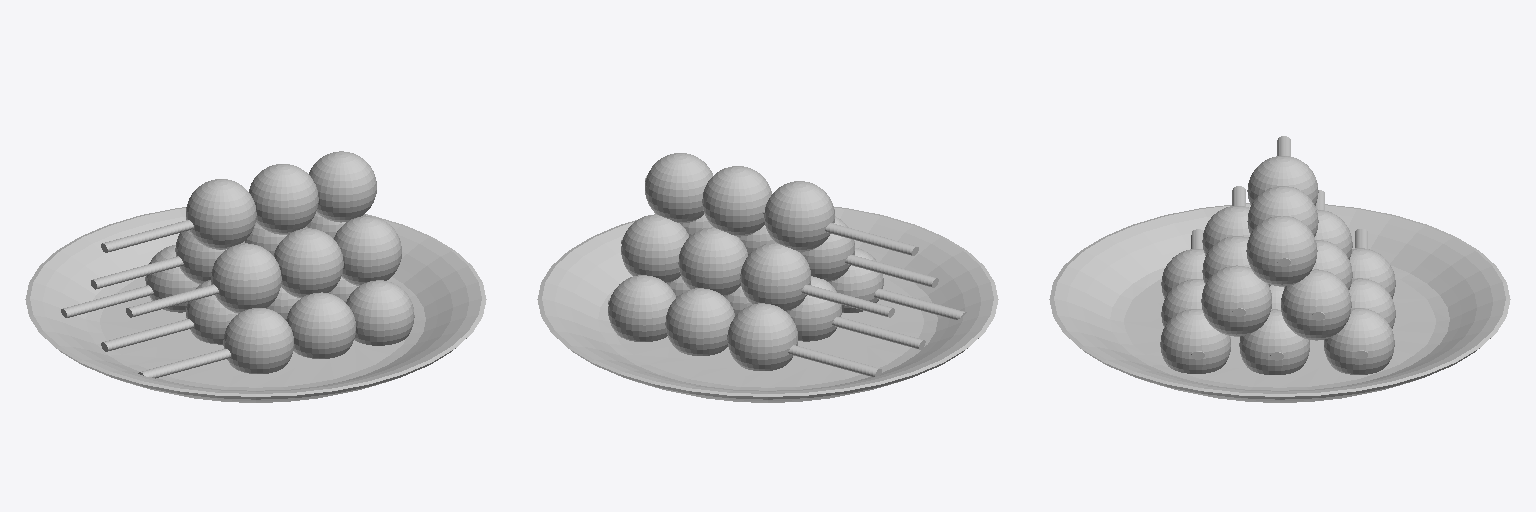
The model's file is KUE CENIL.obj.
3 renders of one model, left to right at view 1: azimuth 30°, elevation 25°; view 2: azimuth 150°, elevation 25°; view 3: azimuth 270°, elevation 25°, orthographic.
Visible parts, largest first — view 1: Cylinder, Sphere.017, Sphere.011, Sphere.016, Sphere.008, Sphere.010, Sphere.007, Sphere.015, Sphere.009, Sphere.006, Sphere.005, Sphere.014 (+8 smaller); view 2: Cylinder, Sphere.017, Sphere.002, Sphere.016, Sphere.001, Sphere.014, Sphere.015, Sphere.013, Sphere, Sphere.012, Sphere.005, Sphere.011 (+7 smaller); view 3: Cylinder, Sphere.015, Sphere.009, Sphere.012, Sphere, Sphere.006, Sphere.003, Sphere.017, Sphere.016, Sphere.011, Sphere.001, Sphere.002 (+5 smaller).
Part boxes in pixels (x1,y1,x2,y2): Cylinder: (25,207,486,402); Sphere.017: (186,179,256,249); Sphere.011: (211,243,281,313); Sphere.016: (249,164,318,234); Sphere.008: (223,308,293,373); Sphere.010: (274,228,343,297); Sphere.007: (286,292,355,358); Sphere.015: (309,151,376,222); Sphere.009: (334,216,401,285); Sphere.006: (346,280,414,345); Sphere.005: (186,280,237,344); Sphere.014: (175,230,244,284); Cylinder: (537,207,998,402); Sphere.017: (764,181,834,251); Sphere.002: (727,303,797,370); Sphere.016: (702,166,771,236); Sphere.001: (665,288,734,355); Sphere.014: (740,243,810,311); Sphere.015: (645,153,712,223); Sphere.013: (678,227,747,296); Sphere: (608,275,675,341); Sphere.012: (621,214,688,283); Sphere.005: (787,276,841,341); Sphere.011: (800,216,854,281); Cylinder: (1049,203,1510,402); Sphere.015: (1246,216,1317,286); Sphere.009: (1201,265,1271,336); Sphere.012: (1281,269,1351,340); Sphere: (1324,308,1394,374); Sphere.006: (1160,309,1230,373); Sphere.003: (1239,309,1309,374); Sphere.017: (1247,156,1318,205); Sphere.016: (1247,186,1318,236); Sphere.011: (1202,206,1249,255); Sphere.001: (1349,278,1395,328); Sphere.002: (1350,248,1395,298).
Size of the model in its own units: 2.31 by 0.8933 by 2.31.